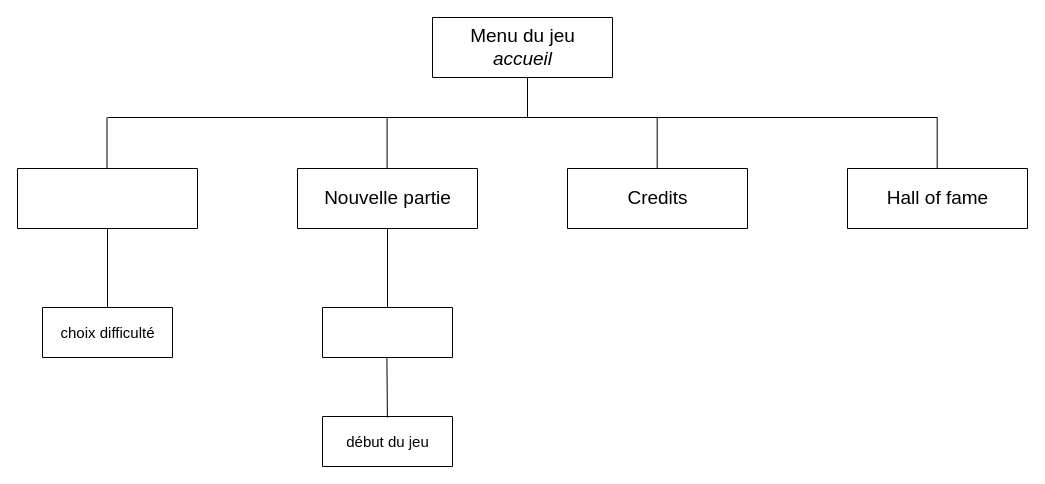
Image size: 1045x484. Some labels were removed from this diagram. The shapes that lost their labels are listed below. From the top down, each one's centre as x and y in pixels, then its label:
pixel 107 198: Paramètres
pixel 387 332: informations actions possibles
